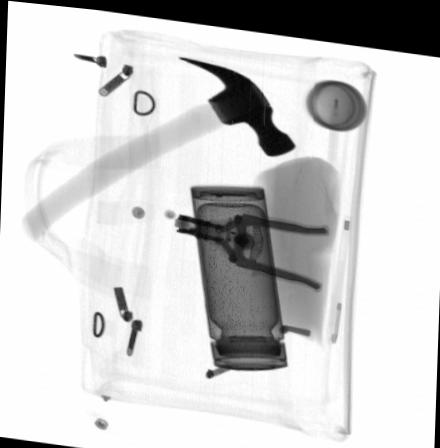Hammer: (20, 53, 297, 241)
Pliers: (171, 205, 329, 285)
